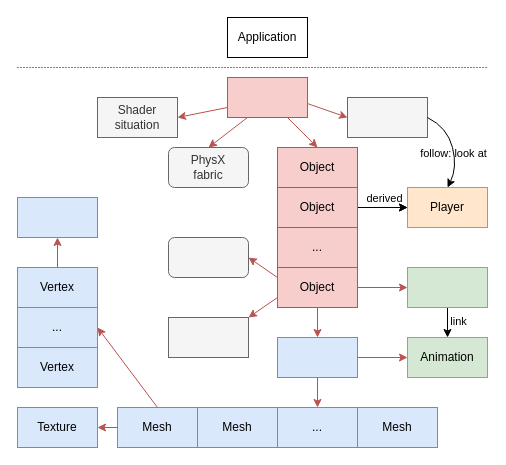
The diagram is 506 pixels wide and 465 high, and some of its shapes have lost their labels. Here are the shapes that lost their labels. From the top down, the box of each, then its label:
(226, 76, 308, 118): World
(346, 96, 428, 138): Camera
(16, 196, 98, 238): BoneInfo
(168, 236, 248, 278): PhysX Substructure: rigid
(406, 266, 488, 308): Animator
(168, 316, 248, 358): Shader Independent
(276, 336, 358, 378): Model
